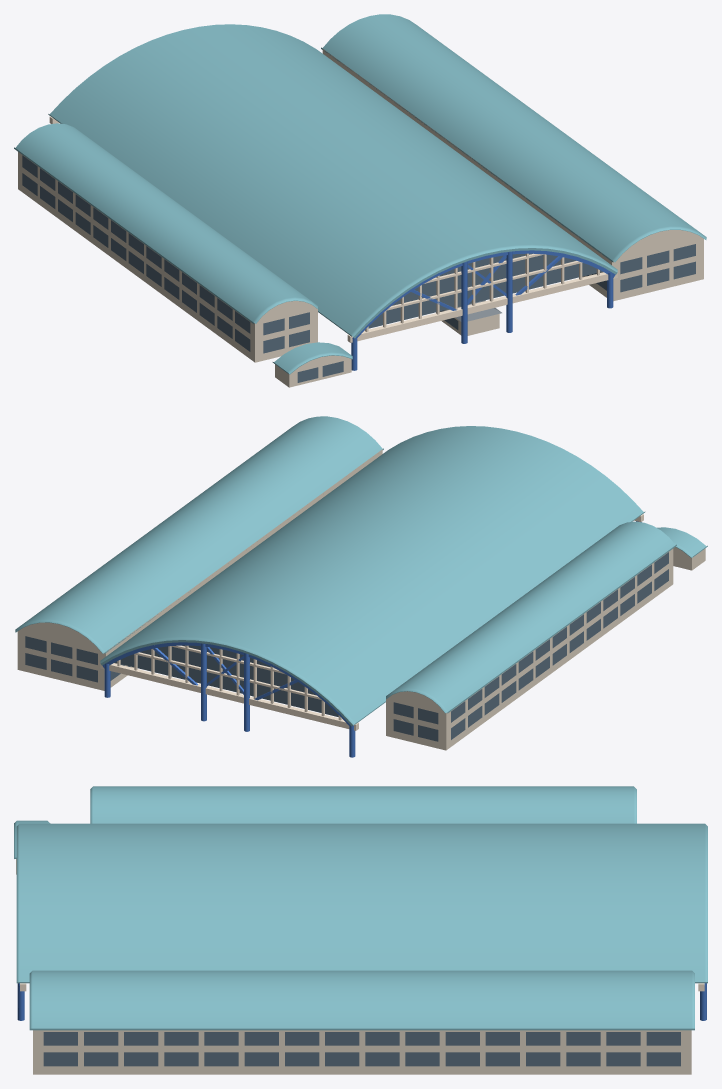
The model's file is charlotte-transportation-center.glb.
3 renders of one model, top to bottom at view 1: azimuth 30°, elevation 25°; view 2: azimuth 150°, elevation 25°; view 3: azimuth 270°, elevation 25°, orthographic. The views are drawn at different scales.
Parts seen in each view (by area): view 1: Charlotte Transportation Center; view 2: Charlotte Transportation Center; view 3: Charlotte Transportation Center.
Part boxes in pixels (x1=…): Charlotte Transportation Center: x1=14, y1=14, x2=706, y2=387; Charlotte Transportation Center: x1=15, y1=416, x2=707, y2=757; Charlotte Transportation Center: x1=14, y1=786, x2=707, y2=1074.
Bounding box in the file's own units: 86.2 × 17 × 106.
